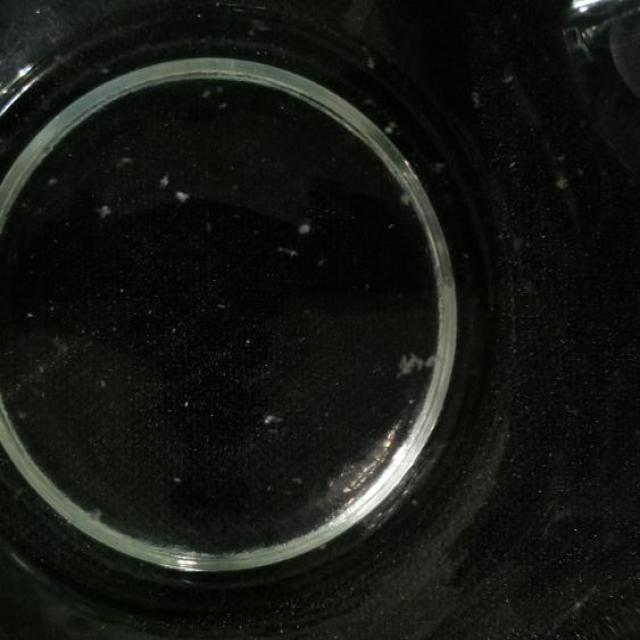fiber: (571, 18, 606, 58), (546, 167, 572, 195), (256, 403, 281, 430), (464, 81, 484, 113), (93, 191, 114, 217), (176, 183, 196, 210), (404, 346, 419, 382), (290, 220, 315, 241), (157, 165, 179, 187), (423, 346, 439, 376), (361, 44, 378, 68), (398, 185, 417, 206)
